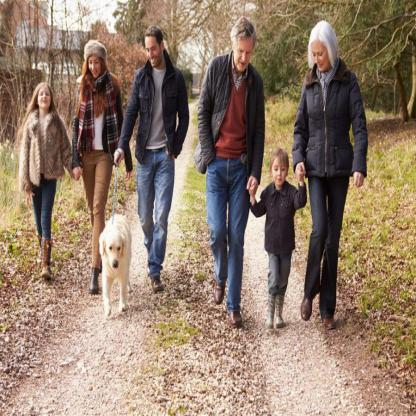person: (298, 19, 365, 328), (200, 19, 266, 328), (124, 23, 188, 292), (73, 40, 124, 296), (20, 81, 68, 279), (254, 149, 304, 328)
